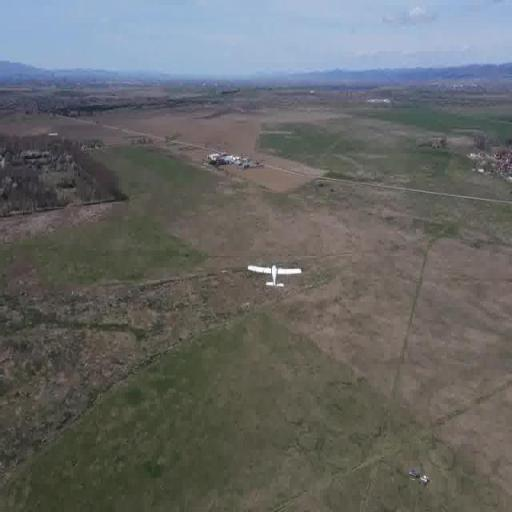uav: (245, 255, 304, 295)
